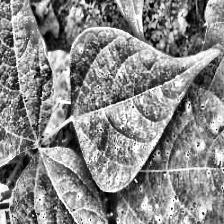Bean Rust: (66, 26, 217, 179), (116, 89, 224, 224), (9, 146, 123, 224), (0, 0, 51, 168)
